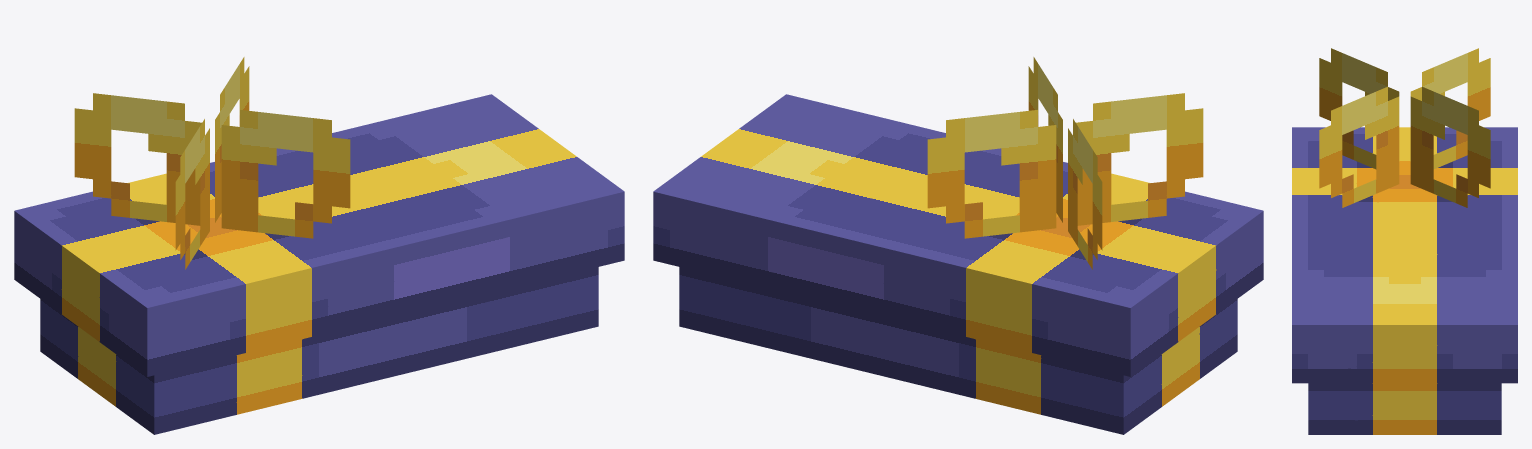
Rendered from present7.gltf.
3 views of the same model, side by side, from view 1: azimuth 30°, elevation 25°; view 2: azimuth 150°, elevation 25°; view 3: azimuth 270°, elevation 25° (orthographic). The views are drawn at different scales.
Parts seen in each view (by area): view 1: cube (×4); view 2: cube (×4); view 3: cube (×4).
Part boxes in pixels (x1,y1,x2,y2): cube (×4): [14, 57, 624, 434]; cube (×4): [653, 57, 1263, 434]; cube (×4): [1292, 48, 1517, 434].
Bounding box in the file's own units: 1.81 × 1.06 × 0.875.
1 material, 1 textured.
